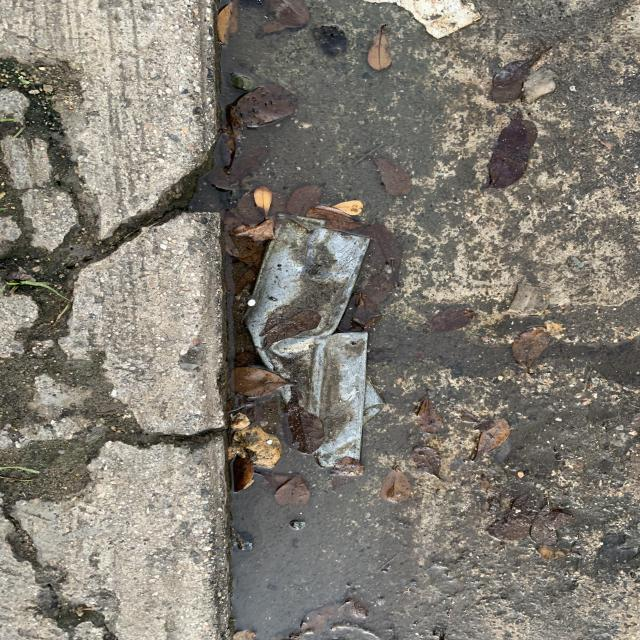litter: (243, 210, 384, 478)
